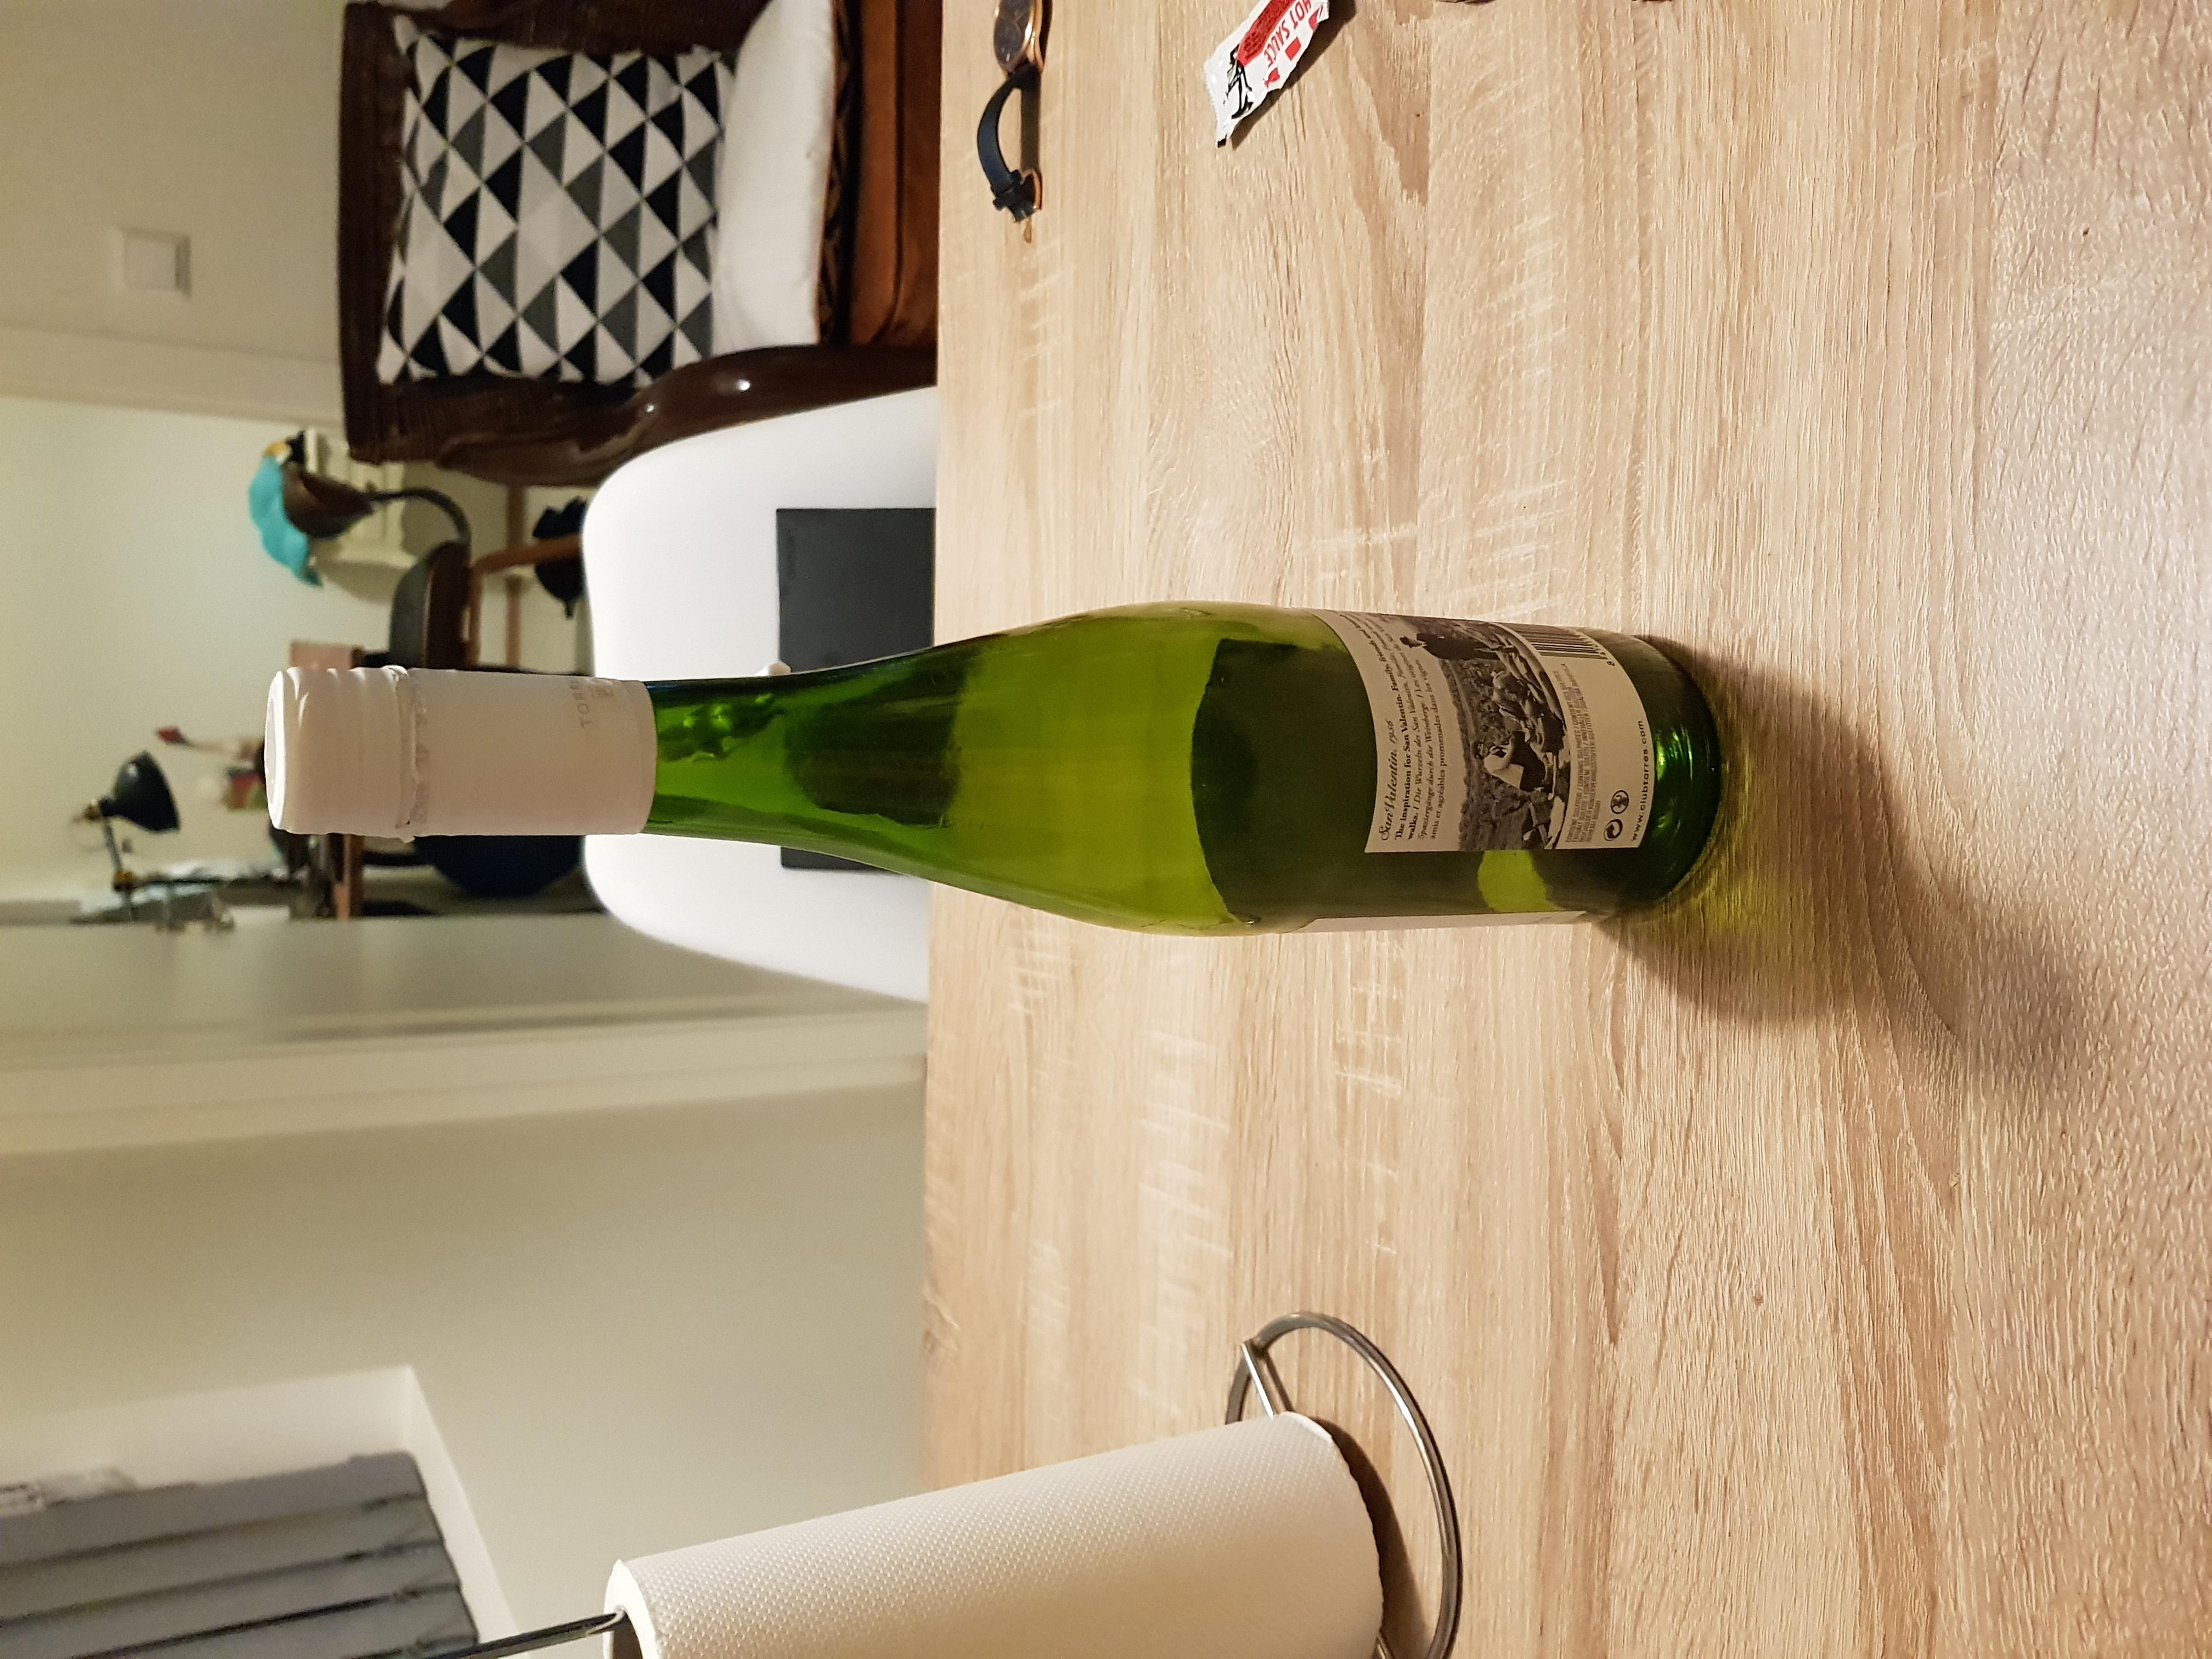Bottle: (253, 596, 1749, 938)
